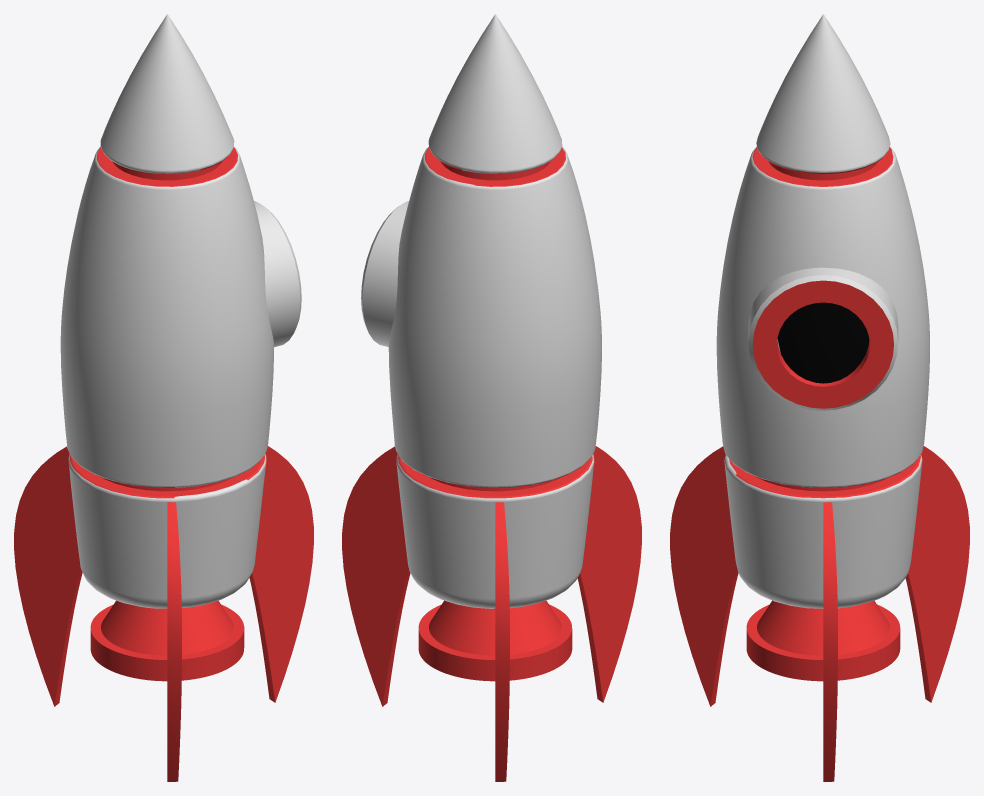
The model's file is untitld.dae.
The picture shows the model from 3 angles, left to right: view 1: azimuth 30°, elevation 25°; view 2: azimuth 150°, elevation 25°; view 3: azimuth 270°, elevation 25°; orthographic projection.
Parts seen in each view (by area): view 1: Body1, Body5, Body3, Body2, Body6; view 2: Body1, Body3, Body6, Body2, Body5; view 3: Body1, Body6, Body5, Body2, Body3.
Part boxes in pixels (box(x1,y1,x2,y2)): Body1: box(60, 14, 301, 608); Body5: box(14, 446, 82, 706); Body3: box(249, 446, 313, 702); Body2: box(90, 600, 244, 681); Body6: box(167, 502, 181, 781); Body1: box(361, 14, 601, 608); Body3: box(342, 446, 410, 706); Body6: box(577, 446, 641, 702); Body2: box(418, 600, 572, 681); Body5: box(495, 502, 509, 781); Body1: box(716, 14, 929, 608); Body6: box(670, 446, 738, 706); Body5: box(905, 446, 969, 702); Body2: box(746, 600, 900, 681); Body3: box(823, 502, 837, 781).
Bounding box in the file's own units: 133 × 144 × 380.
